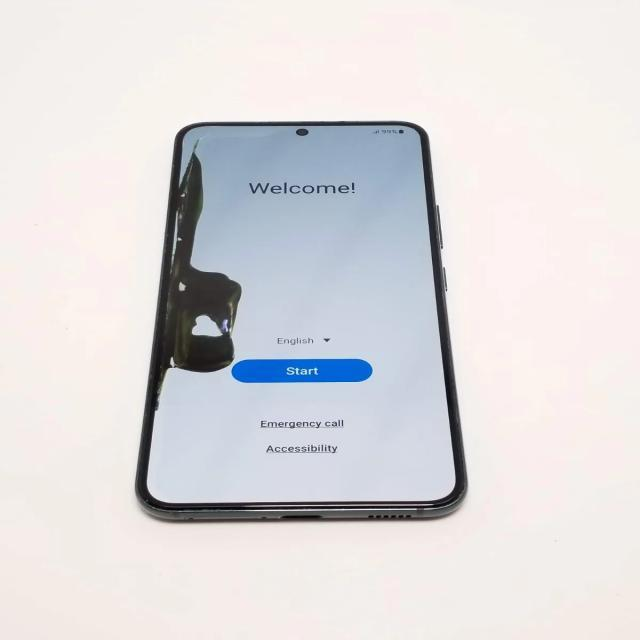dead pixel: (135, 109, 248, 419)
